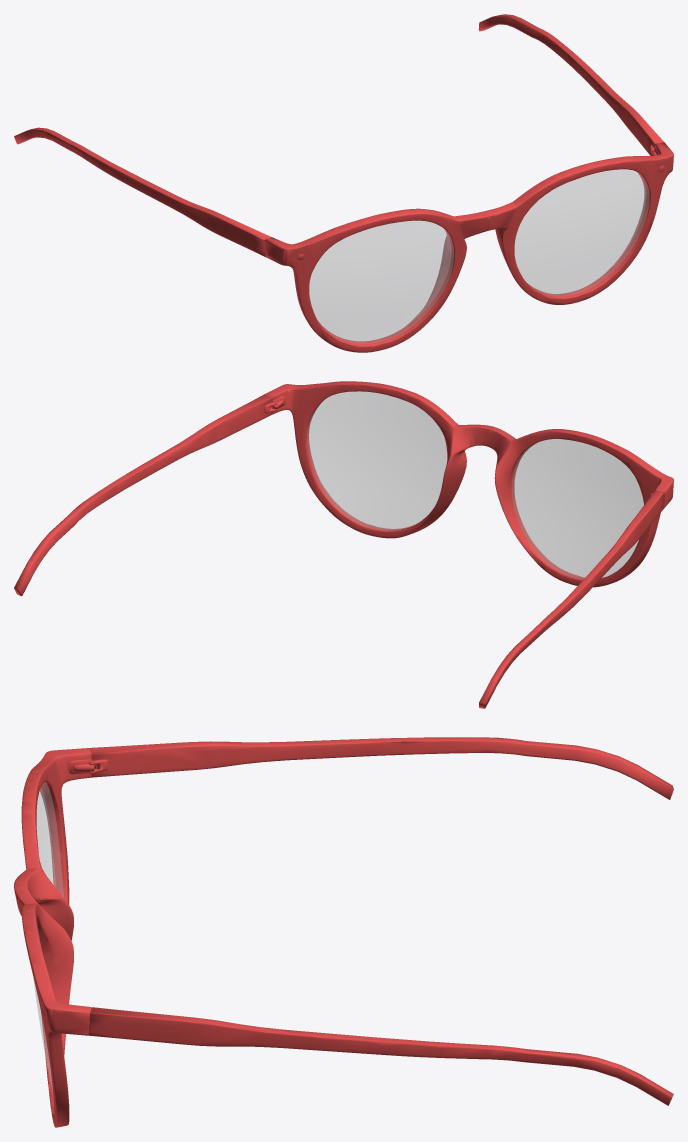
The model's file is Glasses_5.glb.
The picture shows the model from 3 angles, top to bottom: view 1: azimuth 30°, elevation 25°; view 2: azimuth 150°, elevation 25°; view 3: azimuth 270°, elevation 25°; orthographic projection. The views are drawn at different scales.
Visible parts, largest first — view 1: Object_3.001, Object_3; view 2: Object_3.001, Object_3; view 3: Object_3, Object_3.001.
Boxes of the visible parts, x1,y1,x2,y2 form: Object_3.001: [309, 169, 649, 343]; Object_3: [14, 14, 673, 352]; Object_3.001: [307, 391, 643, 579]; Object_3: [14, 381, 673, 708]; Object_3: [14, 737, 673, 1127]; Object_3.001: [33, 782, 63, 1090].
Size of the model in its own units: 2.24 by 0.6457 by 2.
